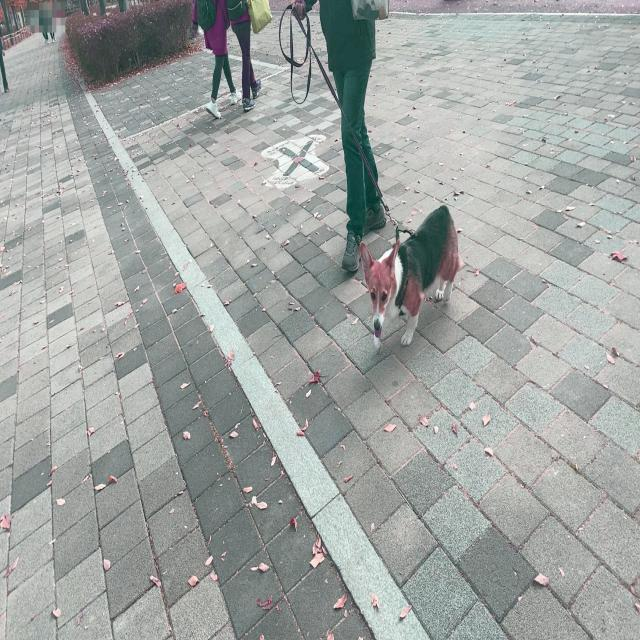Leashed_Dog: (344, 0, 464, 351)
